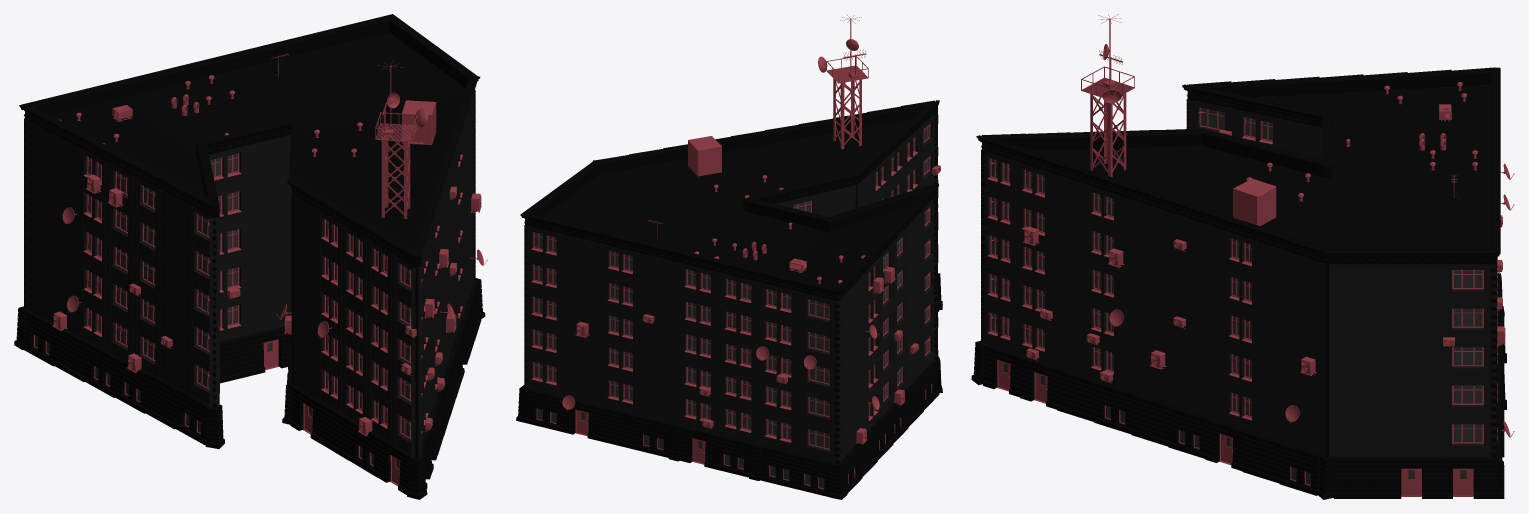
Rendered from Building2_1.fbx.
3 views of the same model, side by side, from view 1: azimuth 30°, elevation 25°; view 2: azimuth 150°, elevation 25°; view 3: azimuth 270°, elevation 25° (orthographic). The views are drawn at different scales.
Parts seen in each view (by area): view 1: Building2_1; view 2: Building2_1; view 3: Building2_1.
Part boxes in pixels (x1,y1,x2,y2): Building2_1: (14,14,487,499); Building2_1: (516,14,942,499); Building2_1: (971,14,1514,499).
Bounding box in the file's own units: 3166 × 2977 × 3830.
